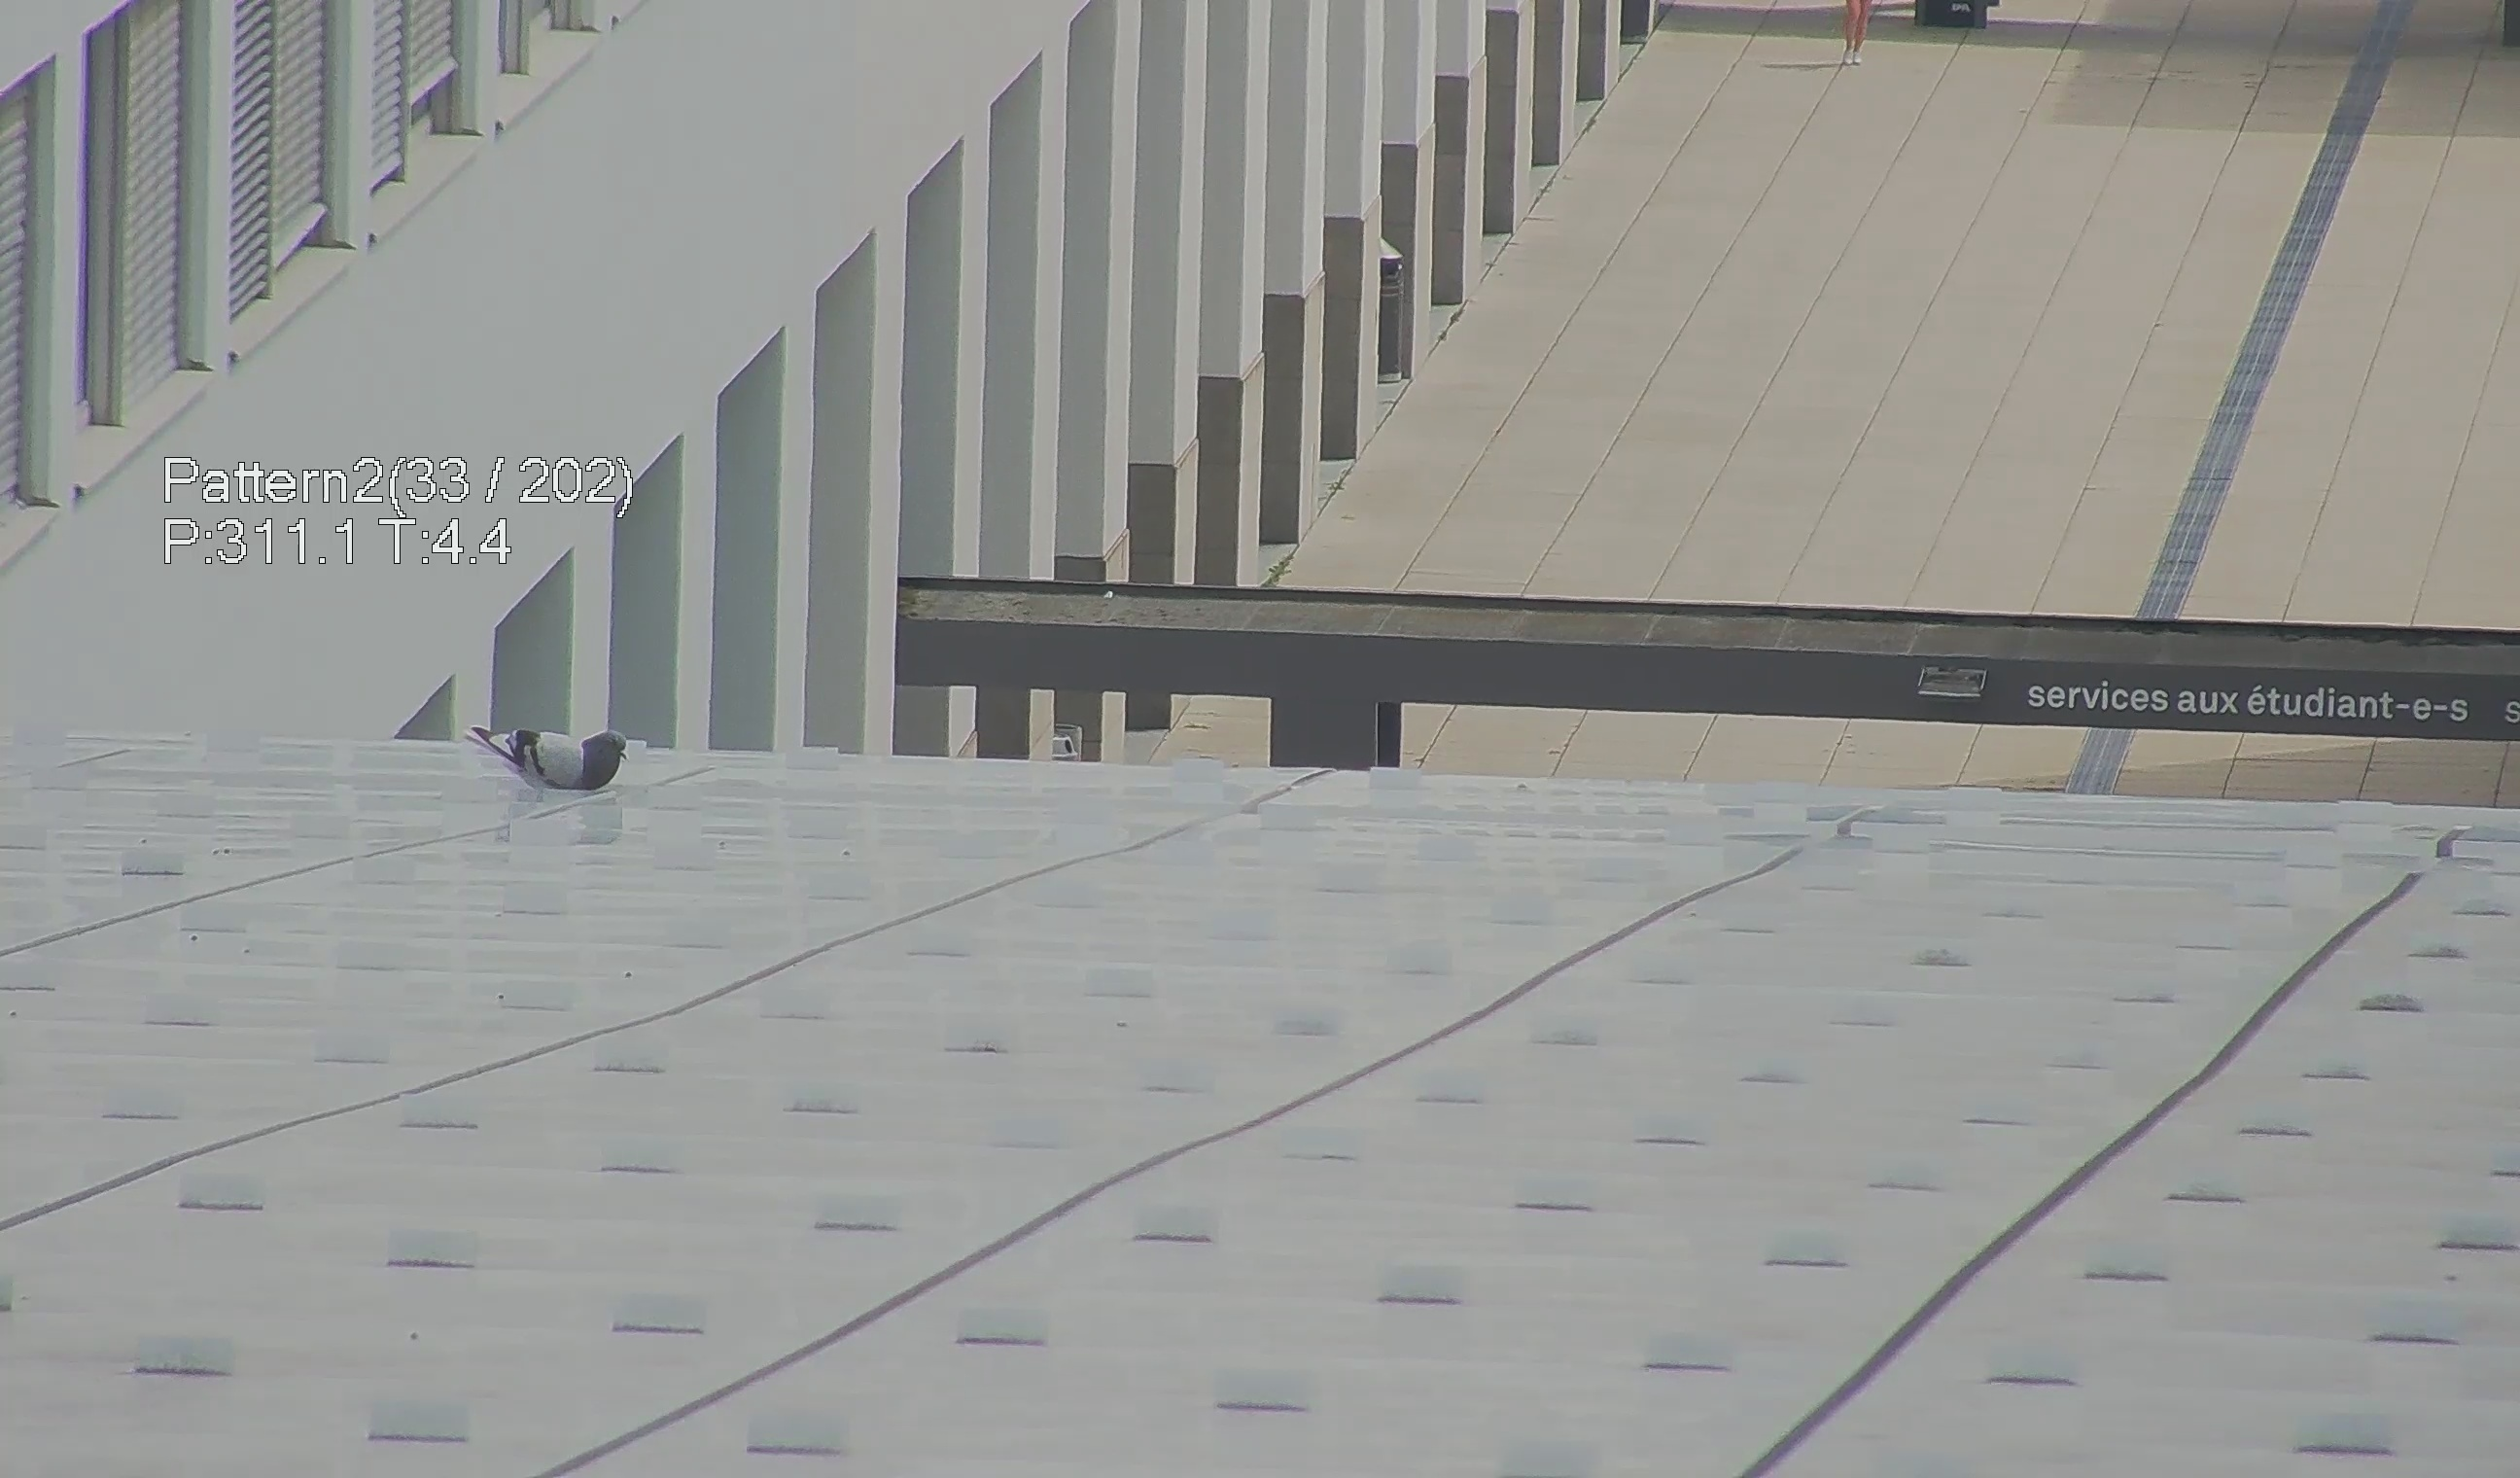Pigeon: (455, 709, 635, 806)
